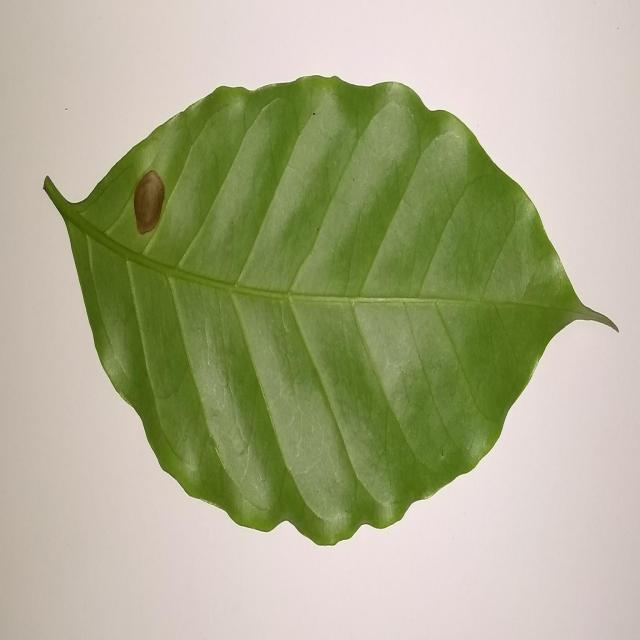phoma: (134, 170, 165, 234)
